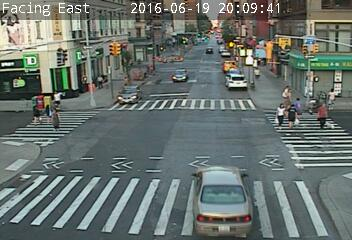neg: (302, 68, 319, 92), (222, 39, 238, 59), (132, 44, 146, 62), (204, 42, 215, 56)
pos: (312, 101, 333, 129), (283, 102, 302, 128), (44, 107, 62, 132), (25, 102, 43, 125), (269, 102, 286, 124), (278, 81, 294, 102), (92, 72, 107, 92), (50, 88, 64, 106), (326, 85, 338, 102), (292, 95, 304, 111), (252, 66, 264, 82)
